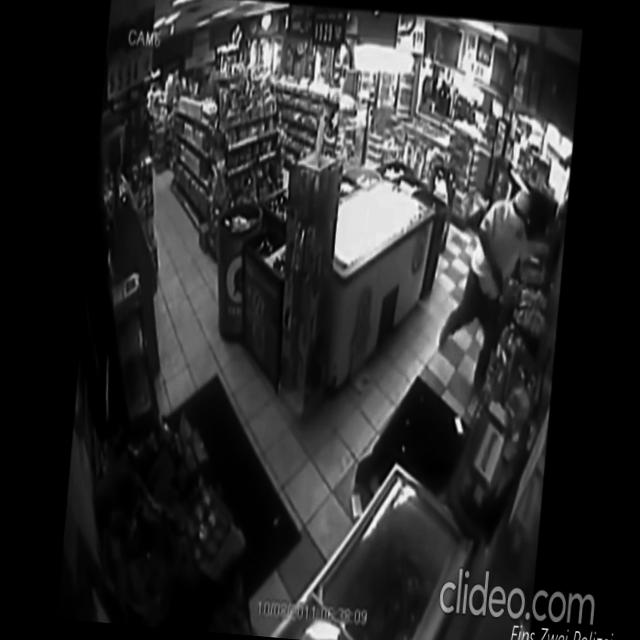gun: (493, 270, 506, 300)
person with a gun: (432, 180, 534, 408)
